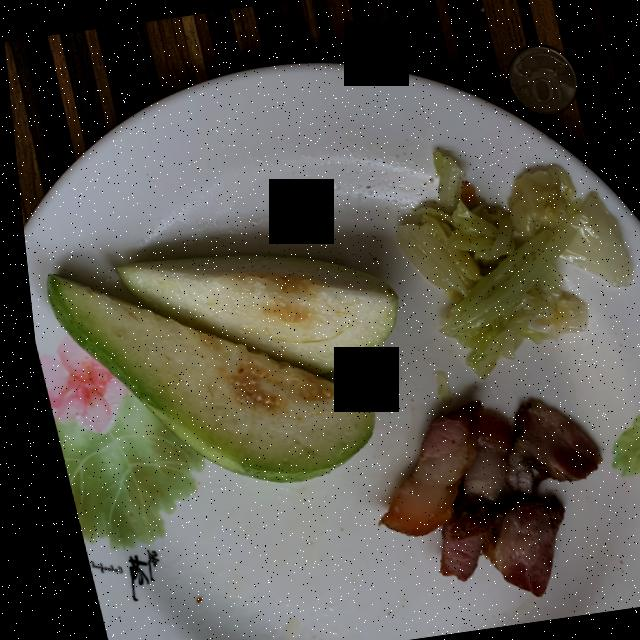cabbage: (392, 152, 628, 378)
coin: (507, 46, 576, 115)
grilled pork: (370, 400, 591, 596)
guava -sliced-: (41, 255, 391, 482)
